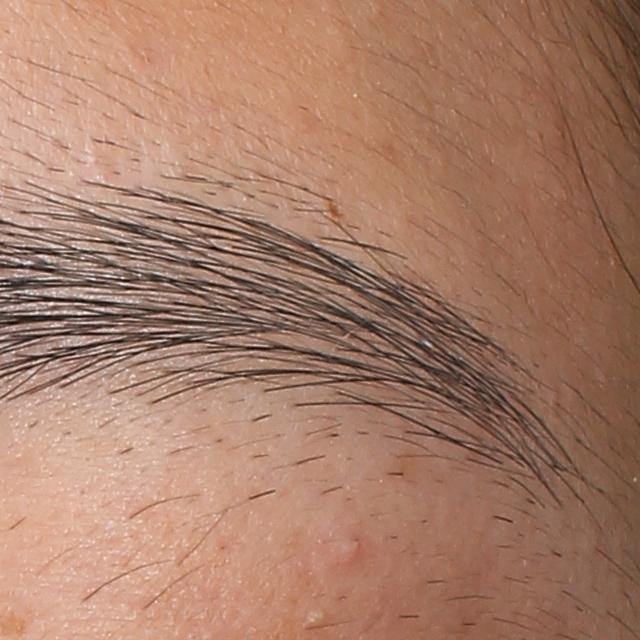nevus: (327, 198, 348, 220)
papule: (332, 534, 365, 571)
